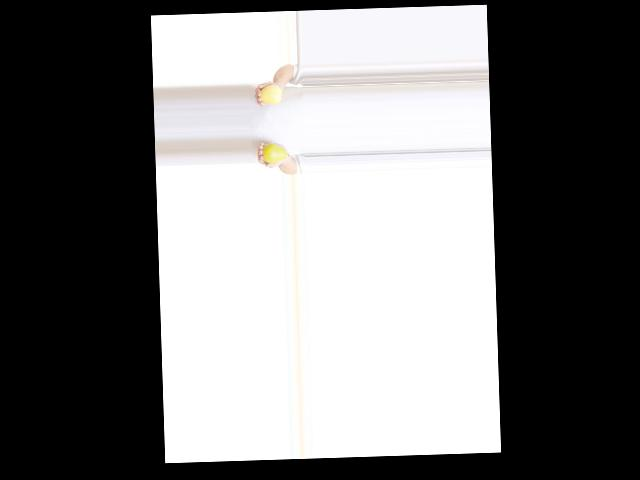apple: (258, 83, 282, 105)
